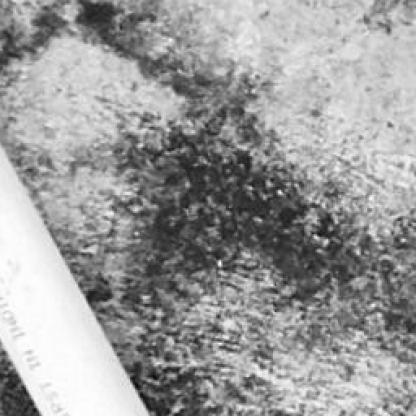PVC: (1, 145, 148, 414)
